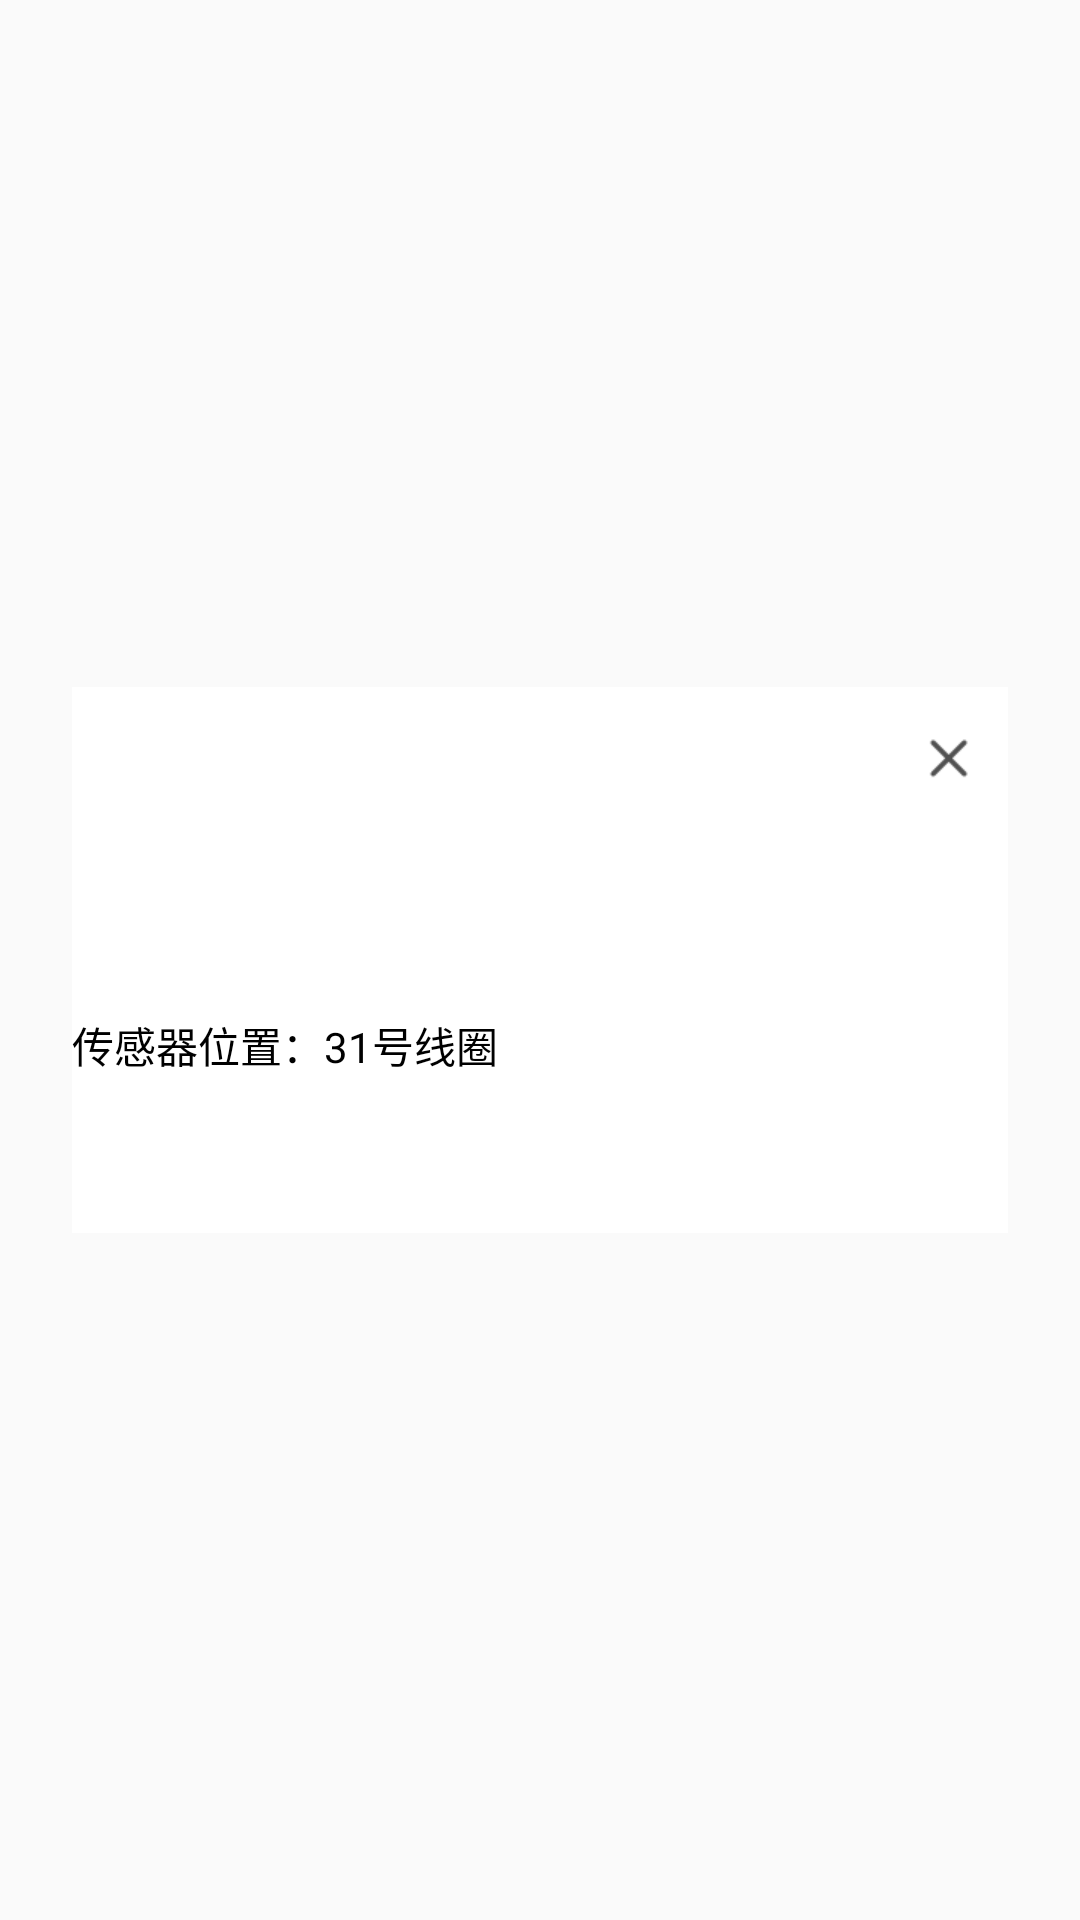

Icons on this 1080px×1920px Android screen, each with its box as (x1, y1, x2, y2):
cancel: (930, 739, 968, 777)
